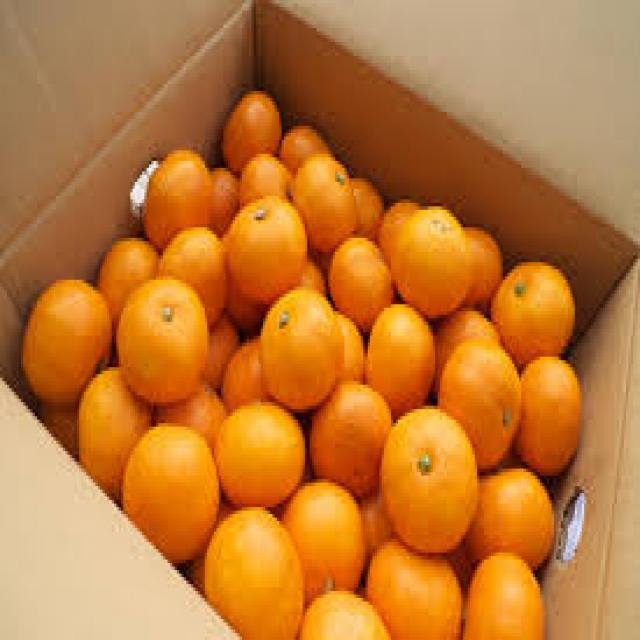organic waste: (374, 402, 474, 553), (119, 420, 218, 563), (200, 504, 300, 636), (433, 332, 521, 472), (114, 273, 209, 402), (19, 272, 110, 398), (75, 364, 152, 504), (258, 283, 342, 409), (280, 476, 366, 594), (210, 398, 302, 504), (465, 462, 554, 570), (366, 532, 458, 636), (307, 378, 389, 493), (223, 192, 305, 298), (487, 255, 572, 357), (512, 350, 579, 472), (389, 203, 463, 311), (363, 300, 433, 412), (140, 143, 212, 245), (461, 549, 542, 637), (156, 224, 226, 325), (291, 147, 354, 252), (326, 235, 391, 332), (93, 234, 158, 315), (218, 84, 282, 164), (149, 378, 223, 444), (298, 584, 389, 637), (217, 227, 260, 336), (433, 304, 496, 378), (458, 220, 502, 304), (375, 196, 421, 266), (218, 336, 268, 398), (277, 119, 328, 175), (238, 150, 288, 207), (38, 388, 82, 451), (330, 308, 366, 381), (354, 483, 393, 549), (205, 308, 237, 388), (207, 161, 235, 234), (346, 175, 382, 231), (300, 252, 324, 287)
